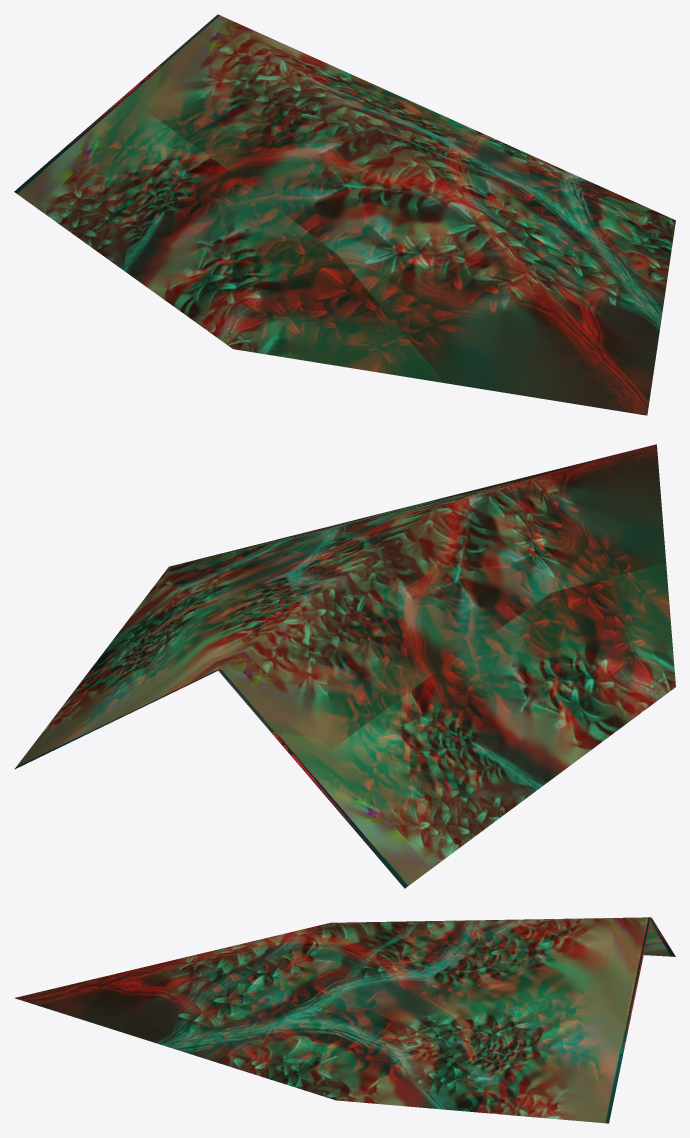
File: Bush_06_Mesh.fbx
3 views of the same model, one above another, from view 1: azimuth 30°, elevation 25°; view 2: azimuth 150°, elevation 25°; view 3: azimuth 270°, elevation 25° (orthographic). The views are drawn at different scales.
Parts seen in each view (by area): view 1: Bush_06; view 2: Bush_06; view 3: Bush_06.
Boxes of the visible parts, <box> form: Bush_06: <box>14,14,675,415</box>; Bush_06: <box>14,444,675,888</box>; Bush_06: <box>14,917,675,1123</box>.
Size of the model in its own units: 1.19 by 0.4111 by 1.96.
